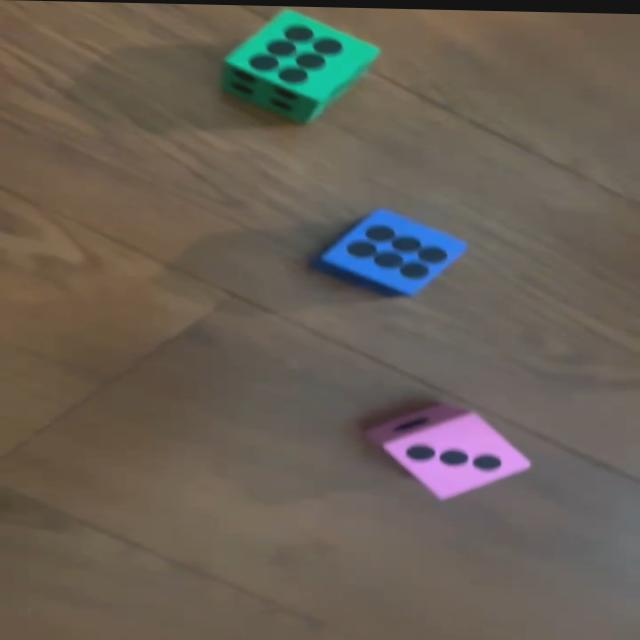cube: (221, 6, 381, 123), (318, 208, 468, 298)
